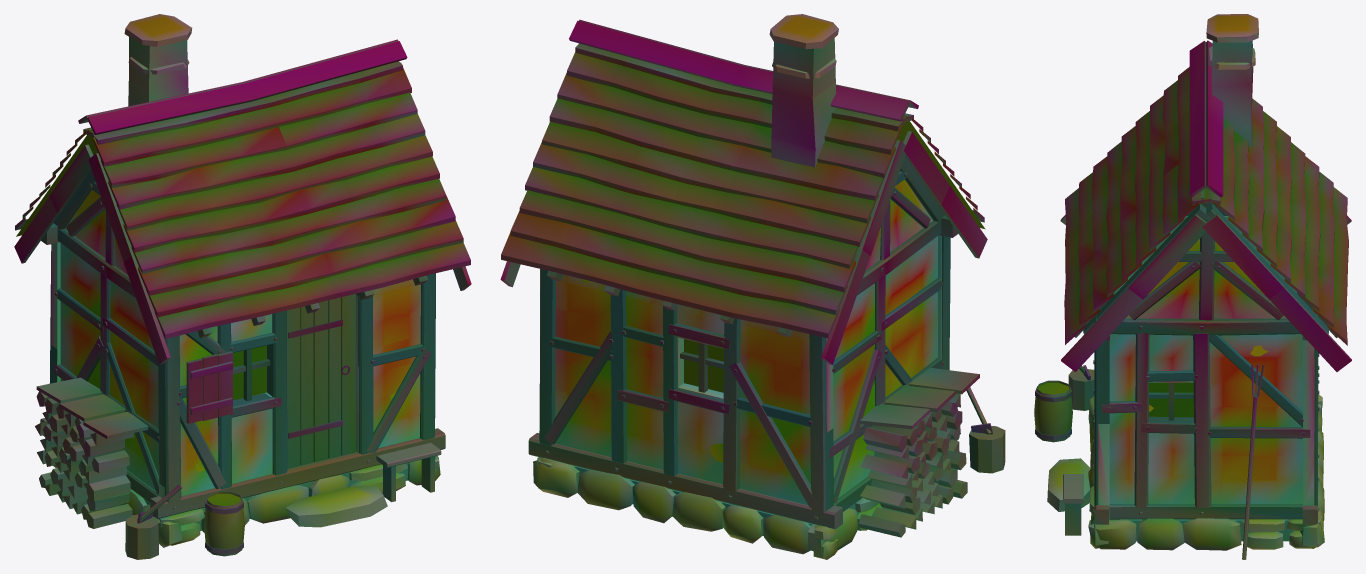
The model's file is hovel_b.glb.
3 views of the same model, side by side, from view 1: azimuth 30°, elevation 25°; view 2: azimuth 150°, elevation 25°; view 3: azimuth 270°, elevation 25° (orthographic). The views are drawn at different scales.
Parts seen in each view (by area): view 1: hovel_b_LOD0; view 2: hovel_b_LOD0; view 3: hovel_b_LOD0.
Part boxes in pixels (x1=…): hovel_b_LOD0: x1=14, y1=14, x2=471, y2=559; hovel_b_LOD0: x1=500, y1=14, x2=1005, y2=559; hovel_b_LOD0: x1=1034, y1=14, x2=1351, y2=559.
Size of what is drawn, in the model's own units: 2.36 by 2.9 by 1.93.
